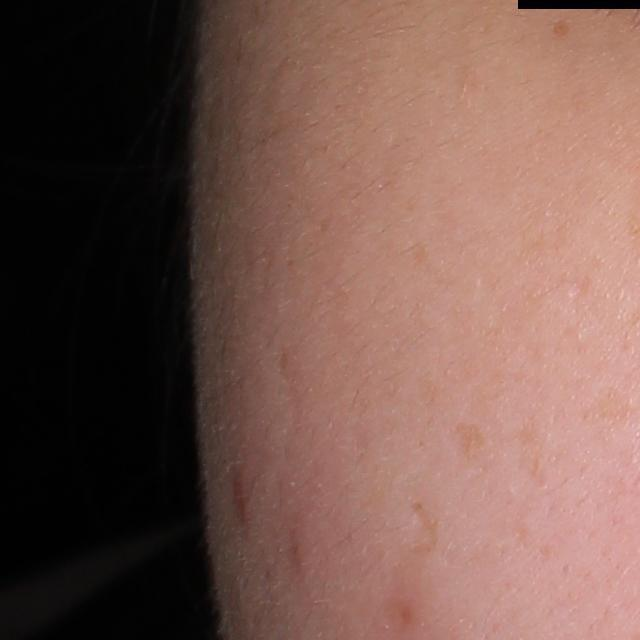melasma: (510, 418, 549, 488), (411, 500, 446, 559), (450, 419, 485, 458), (551, 17, 572, 40)
